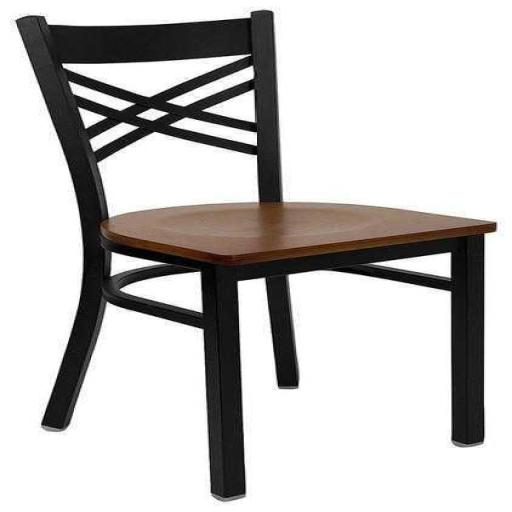chair: (0, 5, 502, 507)
